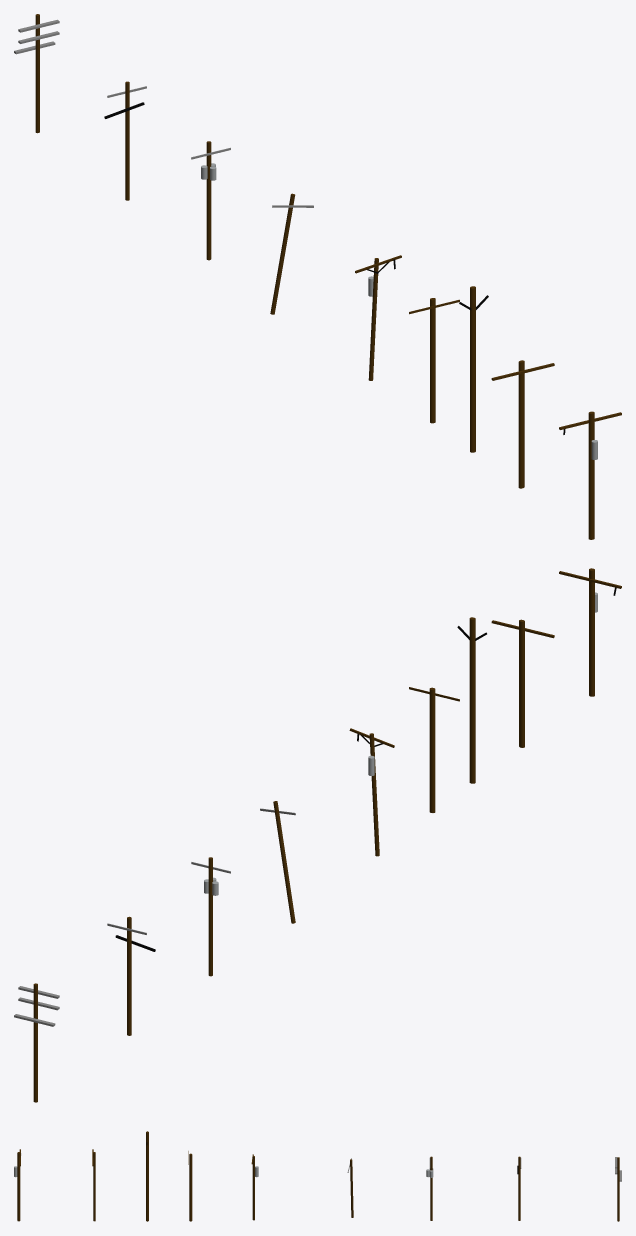
Rendered from power_line_low_poly.glb.
3 views of the same model, one above another, from view 1: azimuth 30°, elevation 25°; view 2: azimuth 150°, elevation 25°; view 3: azimuth 270°, elevation 25° (orthographic). The views are drawn at different scales.
Parts seen in each view (by area): view 1: Object_4, Object_2; view 2: Object_4, Object_2; view 3: Object_4, Object_5.
Part boxes in pixels (left/top/right/bottom): Object_4: left=35, top=14, right=621, bottom=539; Object_2: left=14, top=19, right=313, bottom=207; Object_4: left=33, top=568, right=621, bottom=1102; Object_2: left=14, top=808, right=295, bottom=1026; Object_4: left=17, top=1131, right=619, bottom=1221; Object_5: left=14, top=1166, right=433, bottom=1177.
Bounding box in the file's own units: 11 × 28 × 174.
